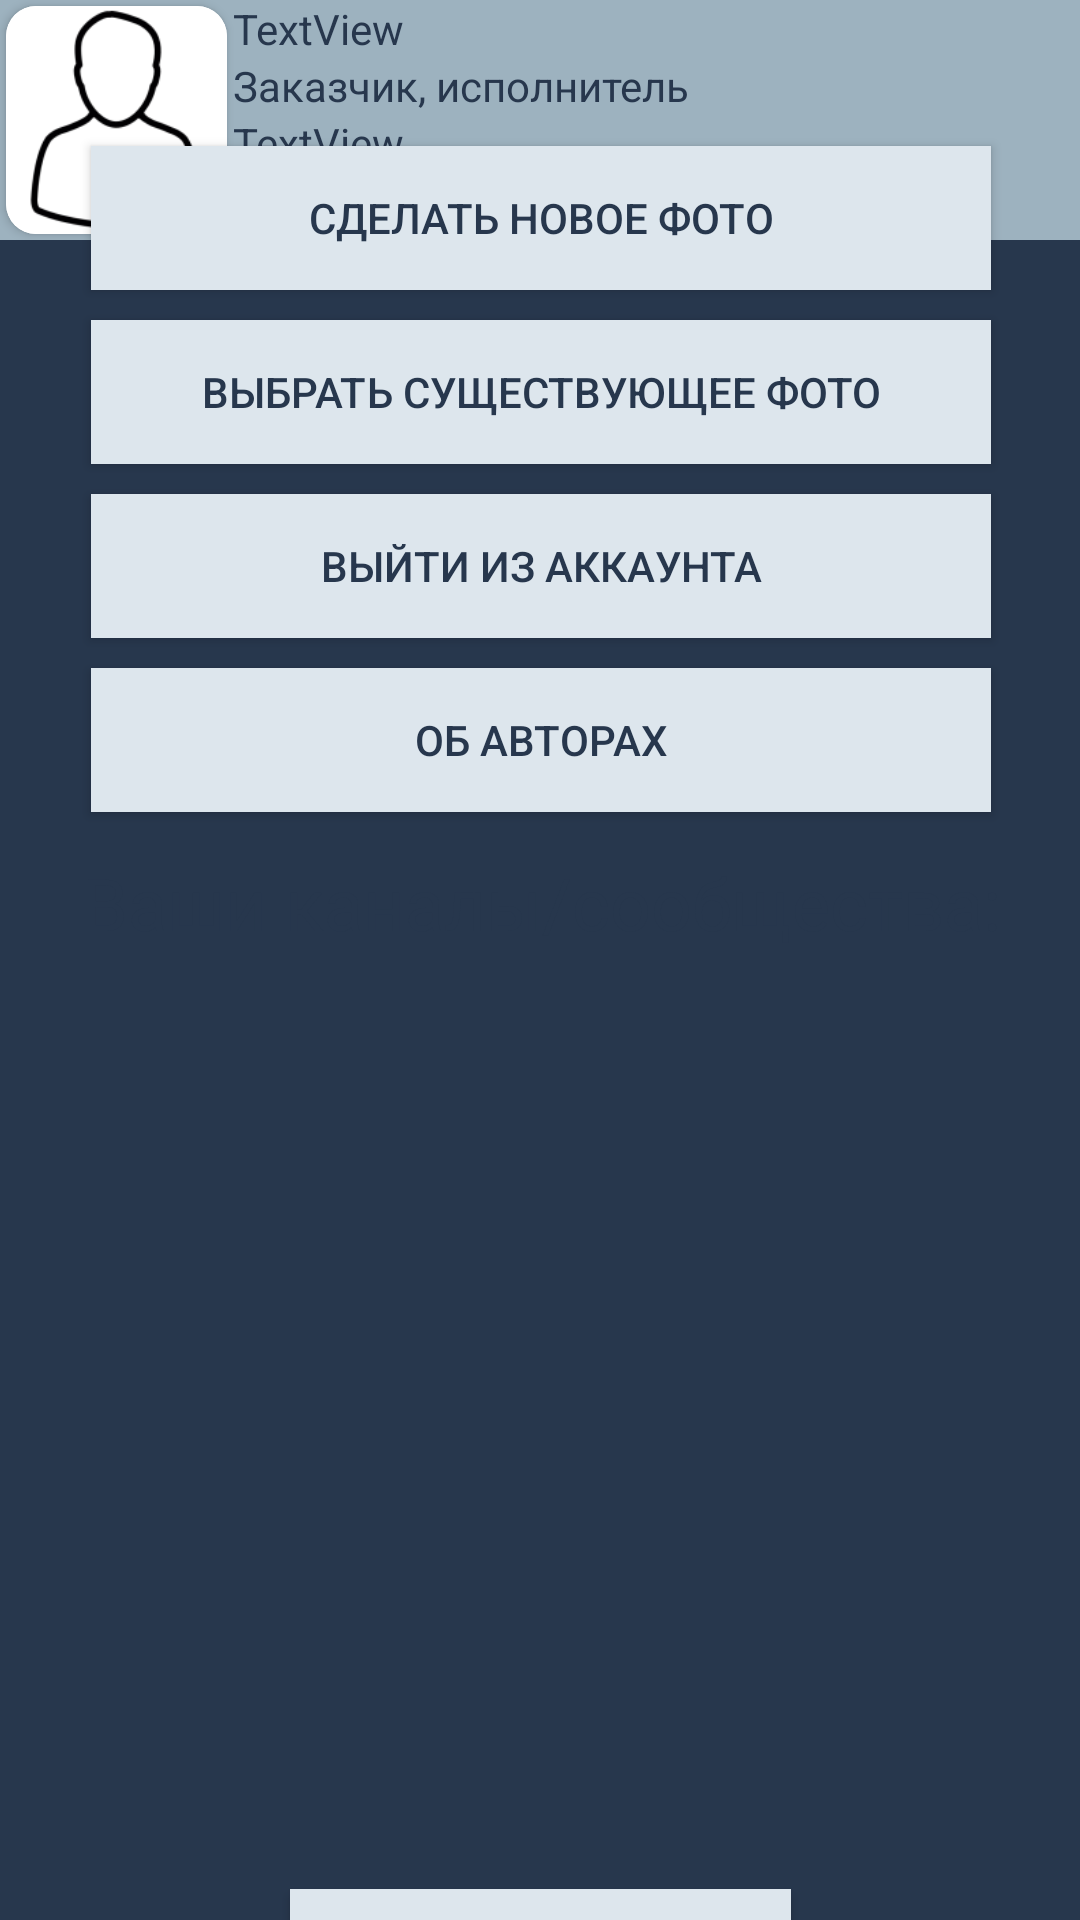

Where to tap for icons on this 1080 × 1920 app screen, as [x,y]:
avatars: [116,120]
